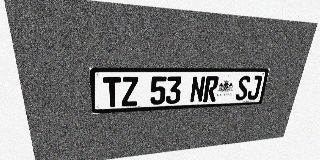3: (165, 76, 182, 104)
5: (150, 76, 167, 105)
J: (246, 76, 263, 100)
N: (189, 76, 206, 103)
R: (203, 76, 219, 102)
S: (235, 76, 251, 101)
T: (103, 77, 121, 107)
Z: (121, 77, 138, 106)
